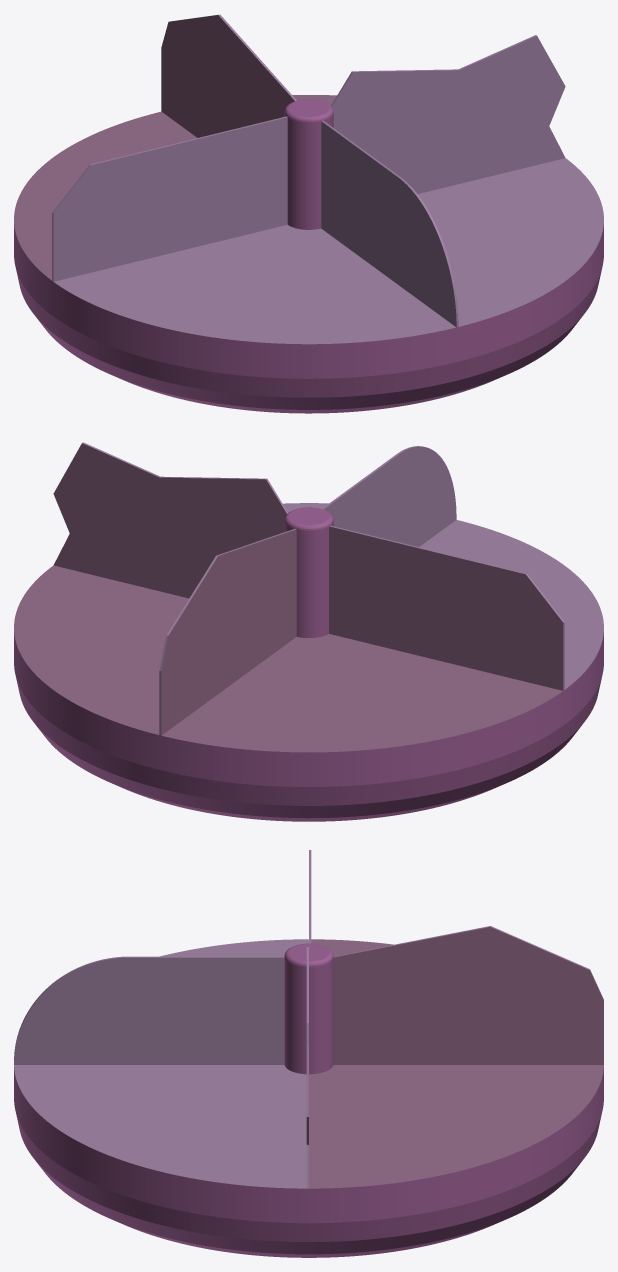
The picture shows the model from 3 angles, top to bottom: view 1: azimuth 30°, elevation 25°; view 2: azimuth 150°, elevation 25°; view 3: azimuth 270°, elevation 25°; orthographic projection.
Parts seen in each view (by area): view 1: Cylinder, Cylinder.001; view 2: Cylinder, Cylinder.001; view 3: Cylinder, Cylinder.001.
Boxes of the visible parts, x1,y1,x2,y2 form: Cylinder: (14, 95, 603, 413); Cylinder.001: (52, 14, 565, 327); Cylinder: (14, 503, 603, 821); Cylinder.001: (53, 442, 564, 735); Cylinder: (14, 939, 603, 1257); Cylinder.001: (14, 850, 603, 1188).
Size of the model in its own units: 24 by 10.2 by 24.
